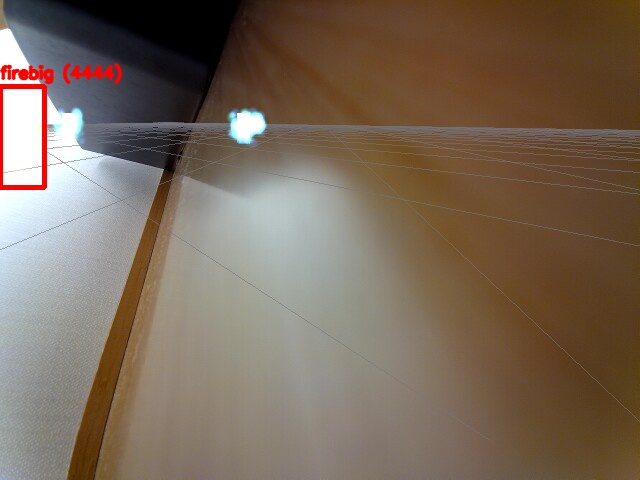firebig: (0, 86, 44, 187)
